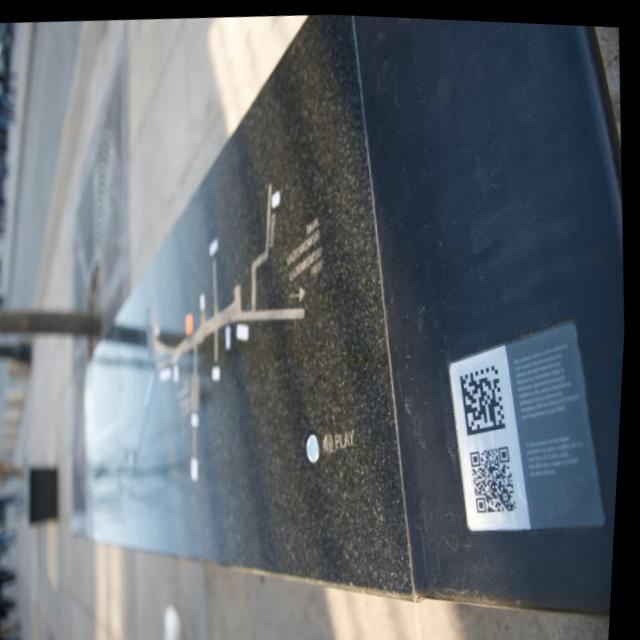qrcode: (473, 439, 525, 509)
